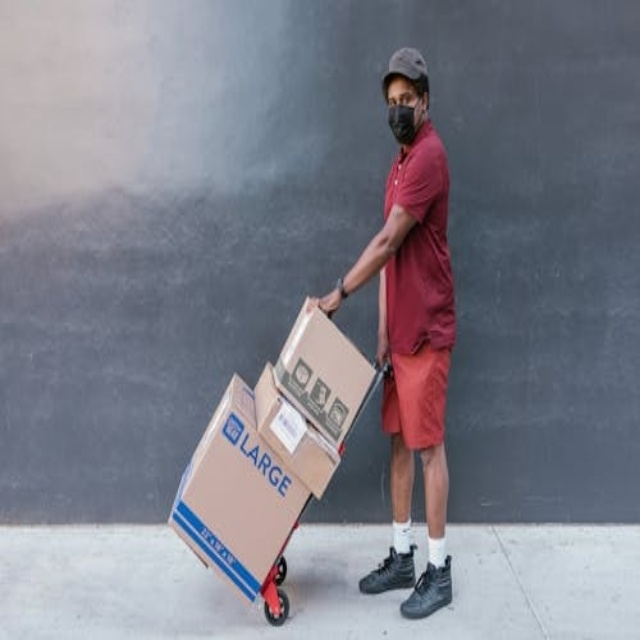Mascara: (388, 101, 421, 143)
Sin_gafas: (385, 88, 416, 110)
Sin_guantes: (305, 294, 331, 318), (375, 343, 392, 375)
